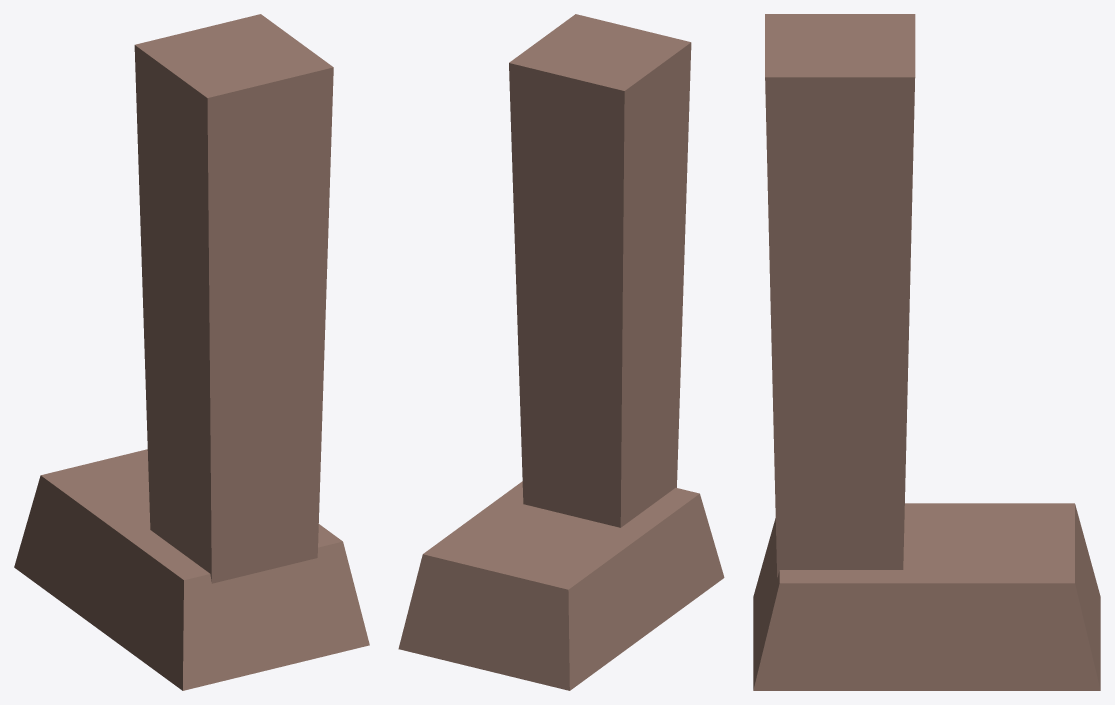
The model's file is animal_sparrow_leg.obj.
3 views of the same model, side by side, from view 1: azimuth 30°, elevation 25°; view 2: azimuth 150°, elevation 25°; view 3: azimuth 270°, elevation 25° (orthographic). The views are drawn at different scales.
Visible parts, largest first — view 1: animal_sparrow_leg; view 2: animal_sparrow_leg; view 3: animal_sparrow_leg.
Boxes of the visible parts, <box> form: animal_sparrow_leg: <box>14,14,369,690</box>; animal_sparrow_leg: <box>398,14,724,690</box>; animal_sparrow_leg: <box>753,14,1100,690</box>.
Size of the model in its own units: 0.032 by 0.095 by 0.05.
